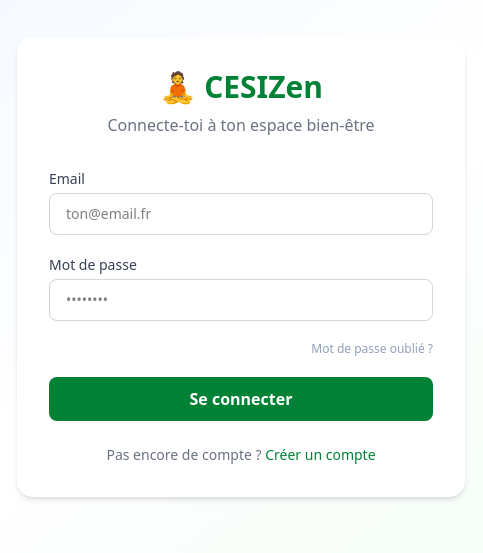
Test: LoginPage › affiche un message d'erreur générique pour les autres erreurs serveur
Type "test@example.com" into the field labelled "Email" at coordinates (241, 214), box [49,193,433,235]
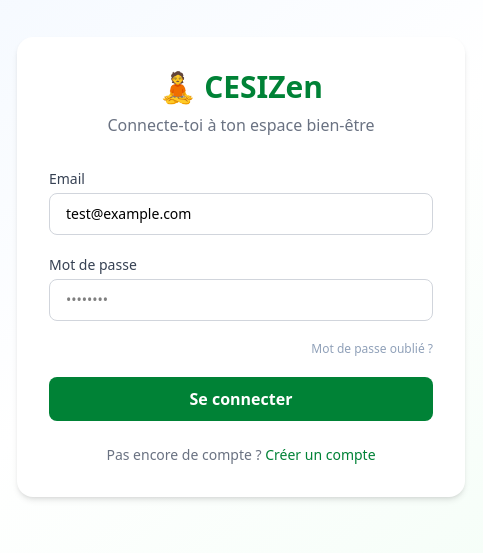
Type "mdp" into the password field labelled "Mot de passe" at coordinates (241, 300), box [49,279,433,321]
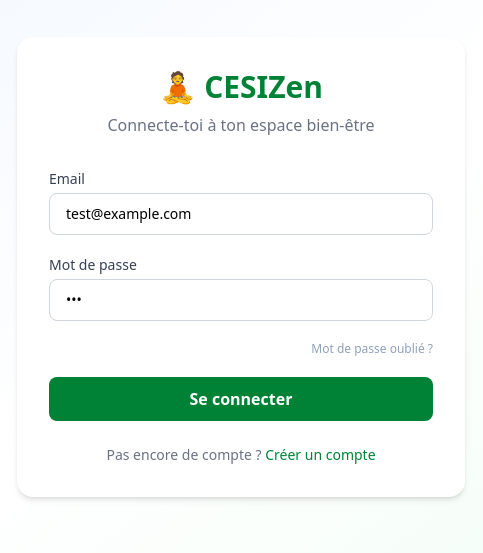
Click the button "Se connecter" at coordinates (241, 399), box [49,377,433,421]
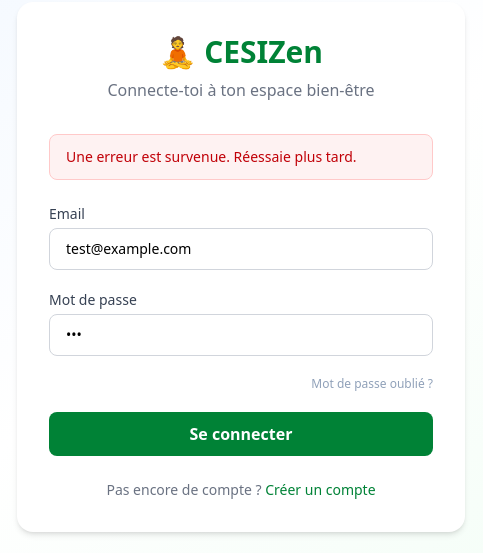
Now the text "Une erreur est survenue. Réessaie plus tard." is shown, box [49,134,433,180]
